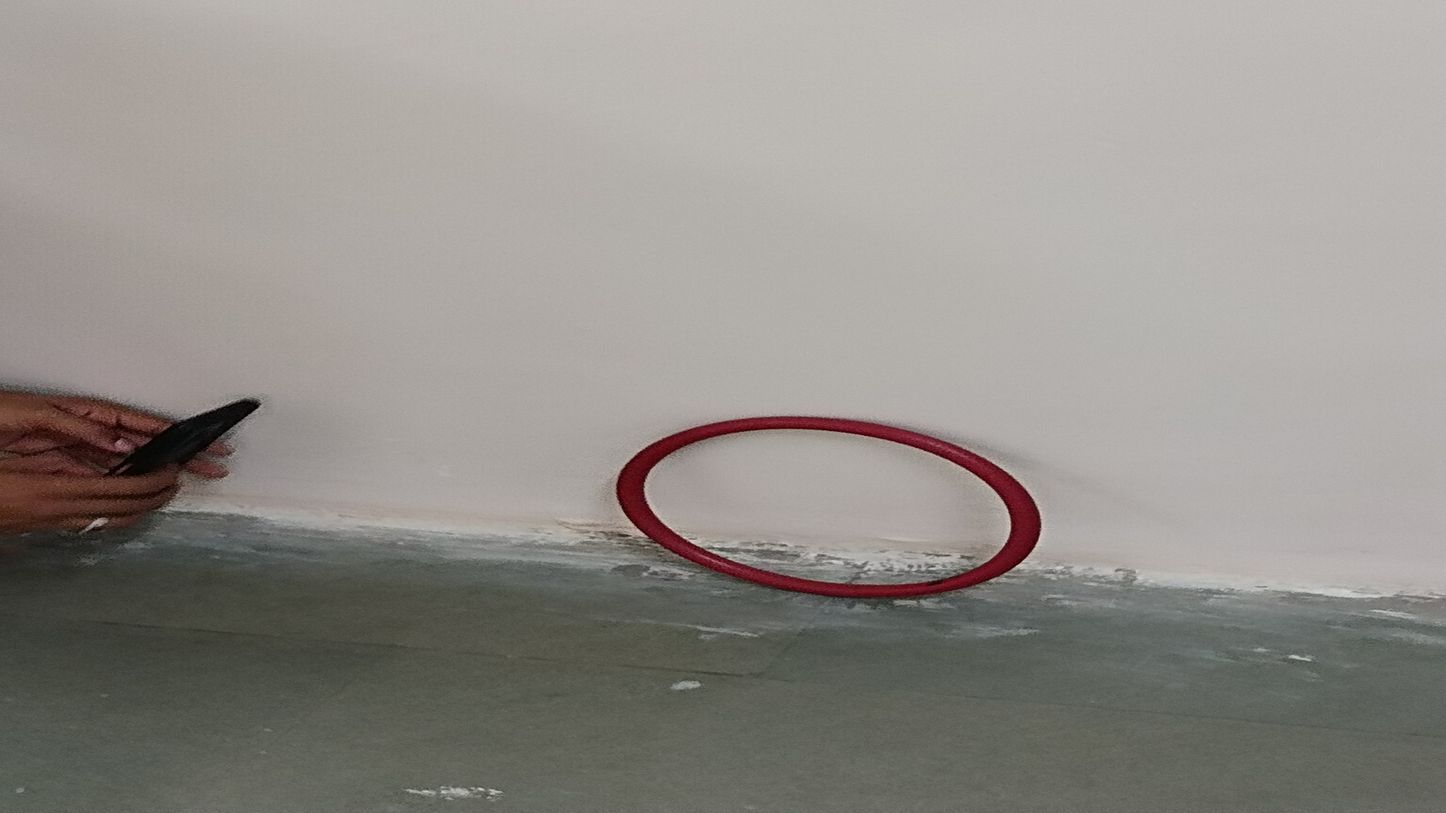Red ring: (618, 417, 1041, 598)
